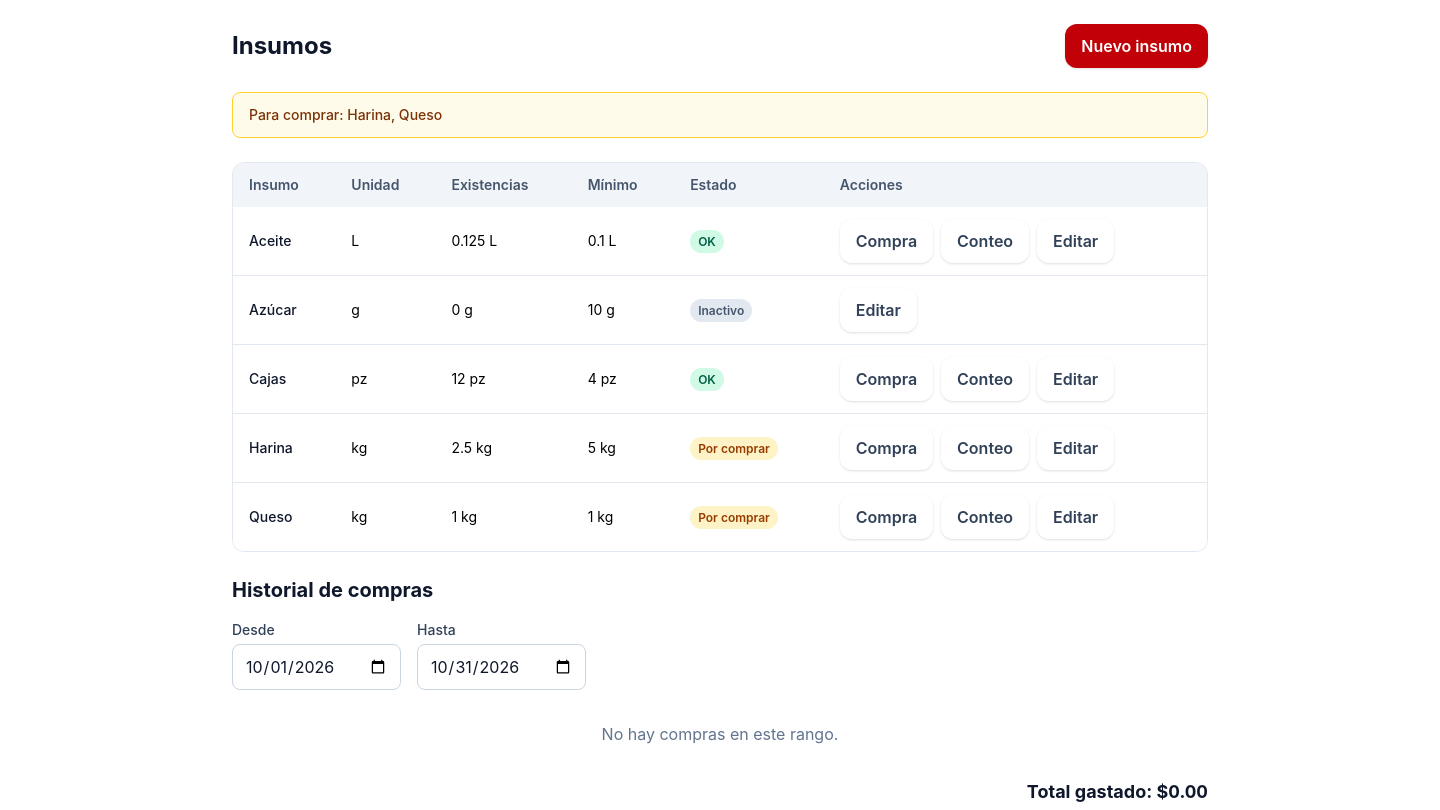
Scenario: AdminSuppliesPage supply form (S3, S4) › creates a supply without stock and reloads
Expected: the table named "Lista de insumos" is shown, [233,163,1207,551]
Click the button "Nuevo insumo" at (1137, 46), box [1065,24,1208,68]
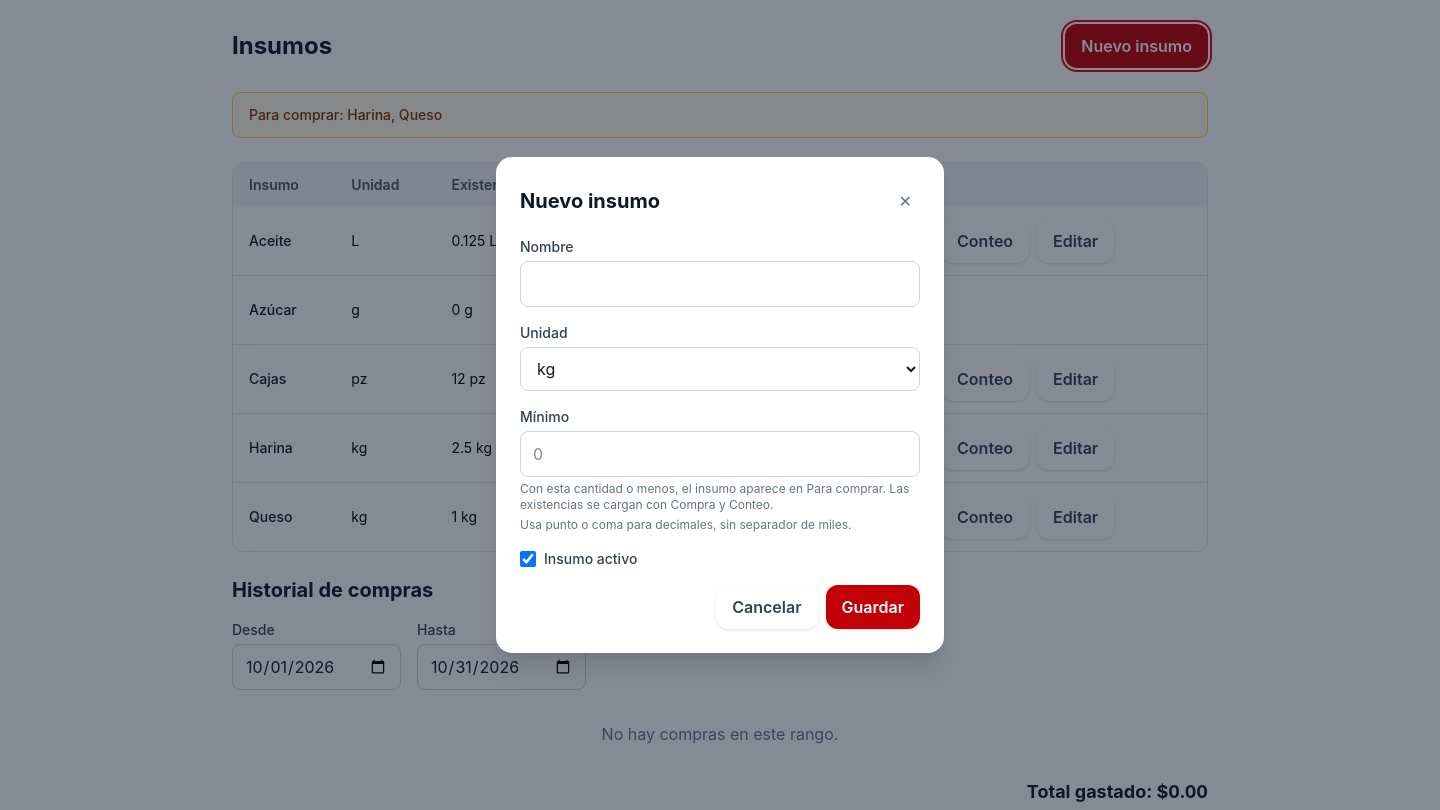
Type "  Tomate " into the field labelled "Nombre" at (720, 284), box [520,261,920,307]
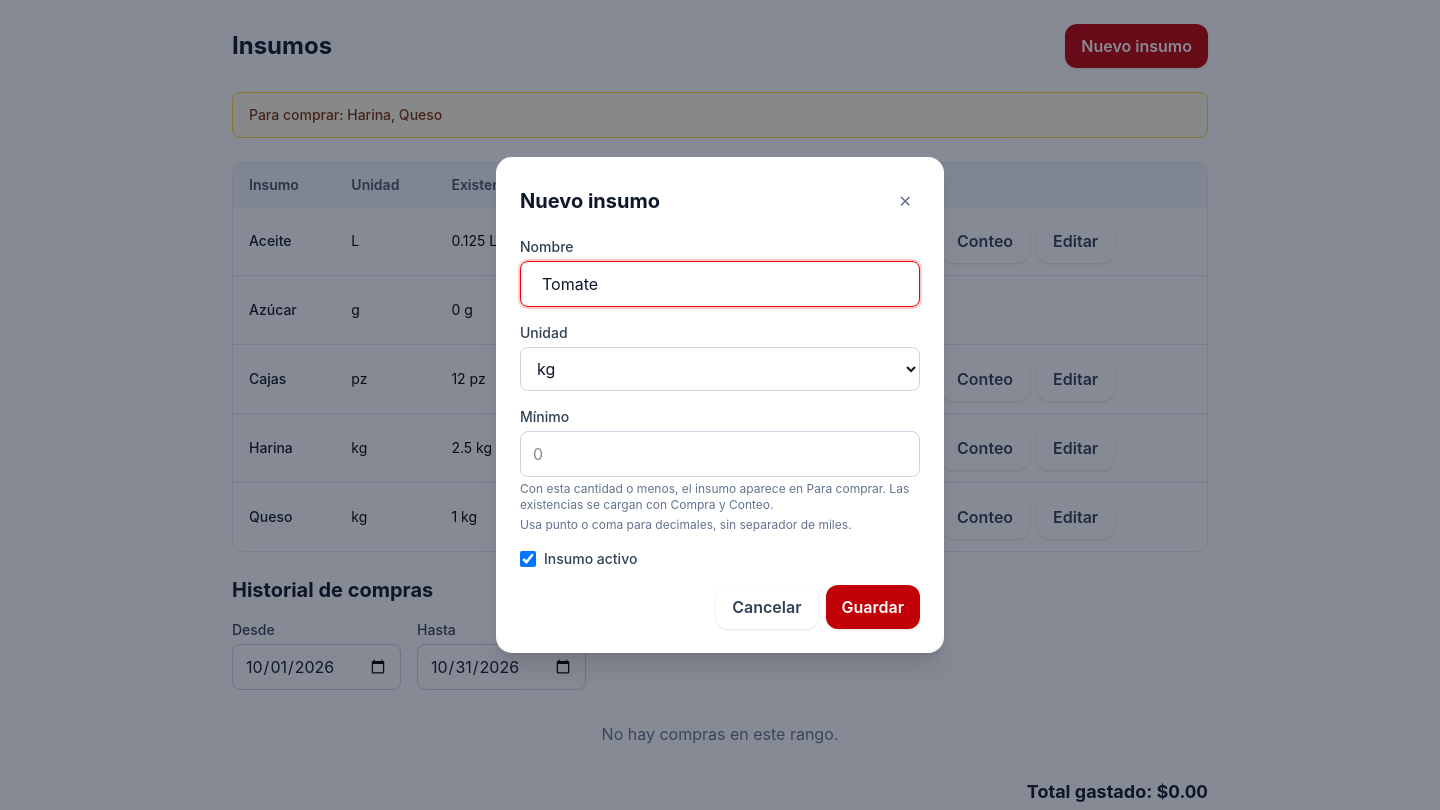
Select "g" in the dropdown labelled "Unidad" at (720, 369), box [520,347,920,391]
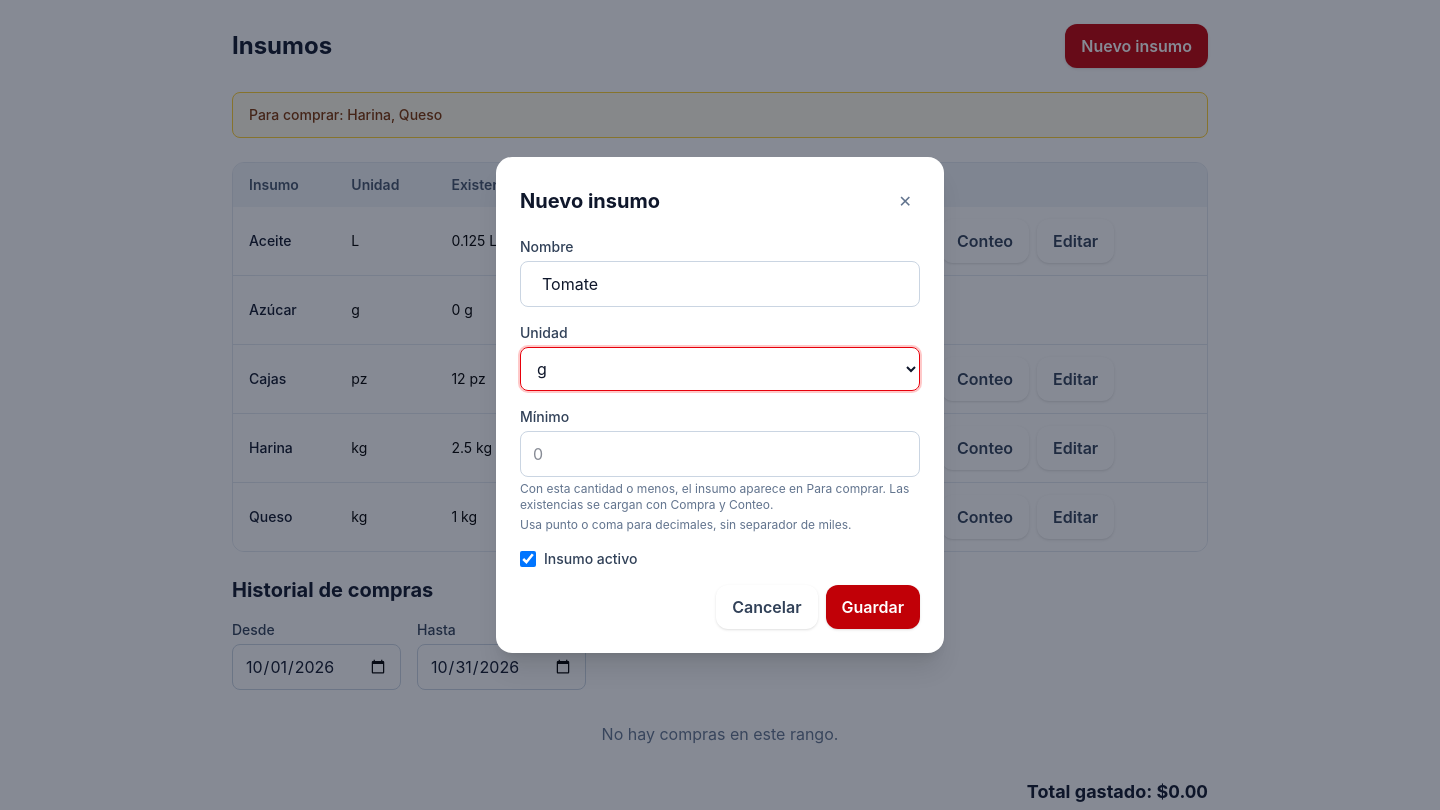
Type "2,5" into the field labelled "Mínimo" at (720, 454), box [520,431,920,477]
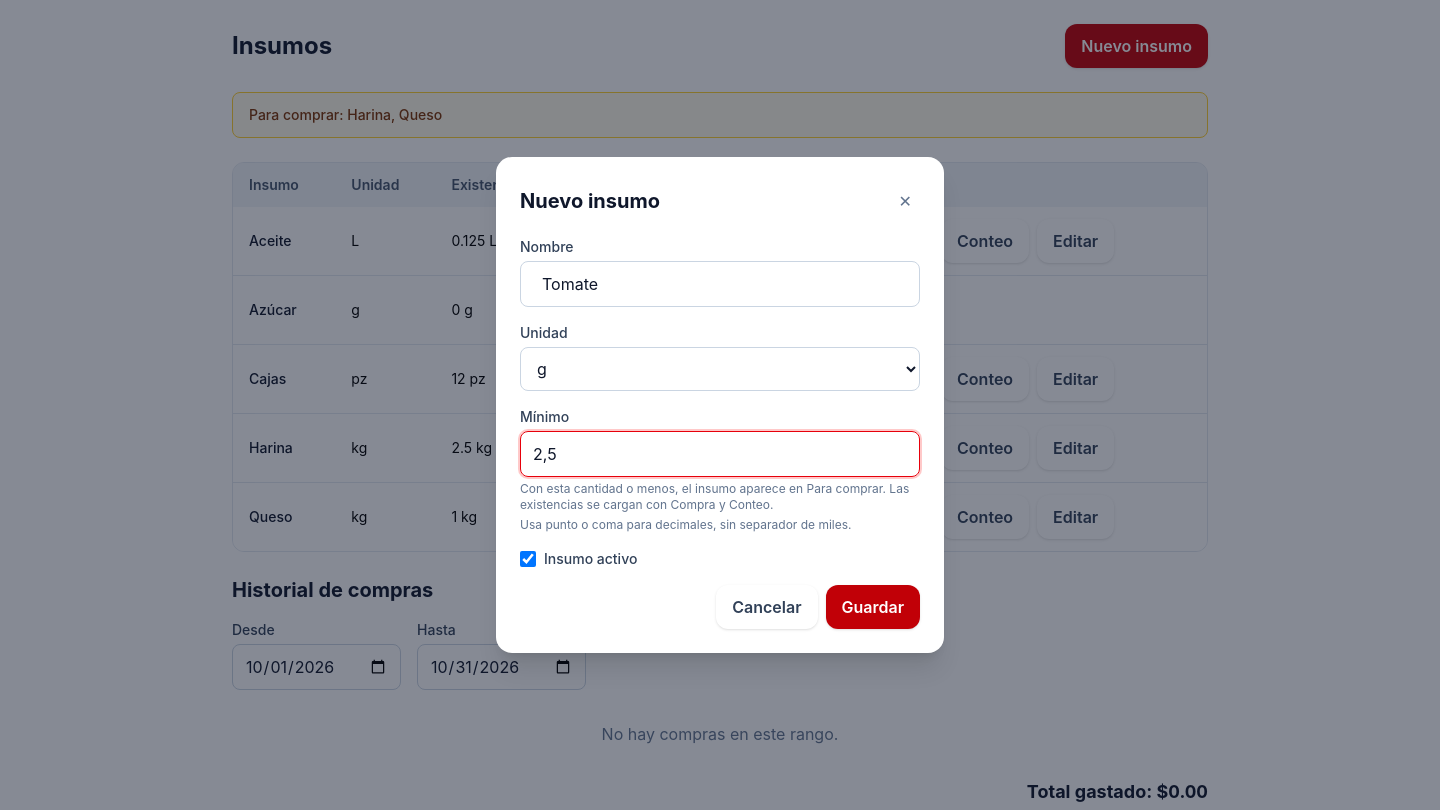
Click the button "Guardar" at (873, 607), box [826,585,920,629]
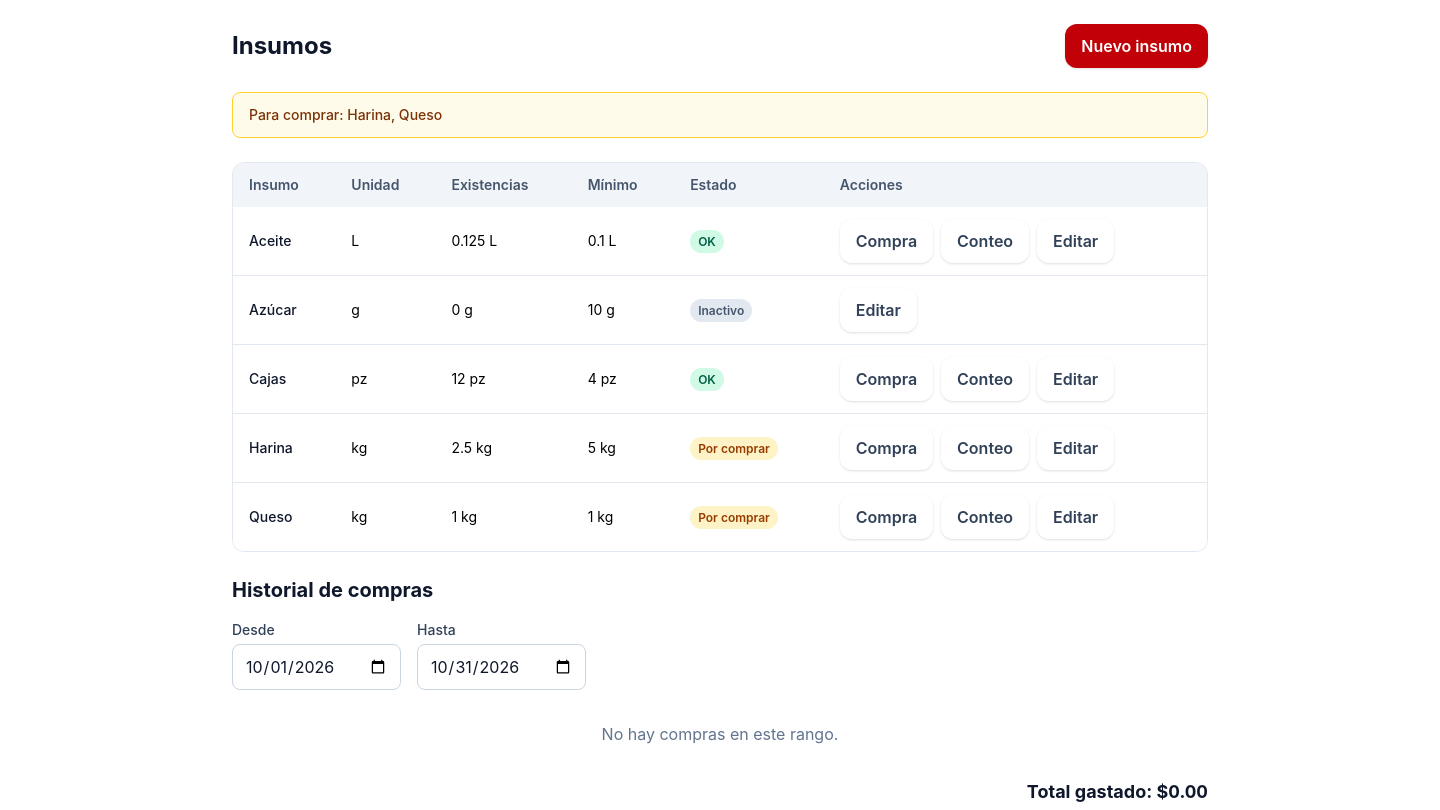
Expected: the dialog is gone
